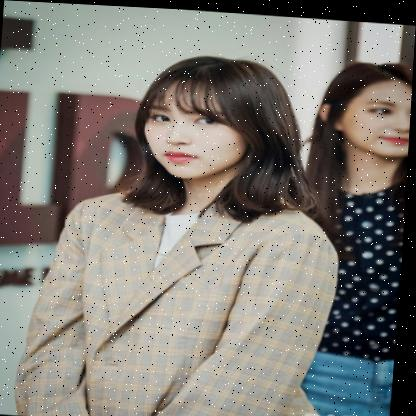person: (127, 58, 291, 196), (310, 59, 414, 180)
